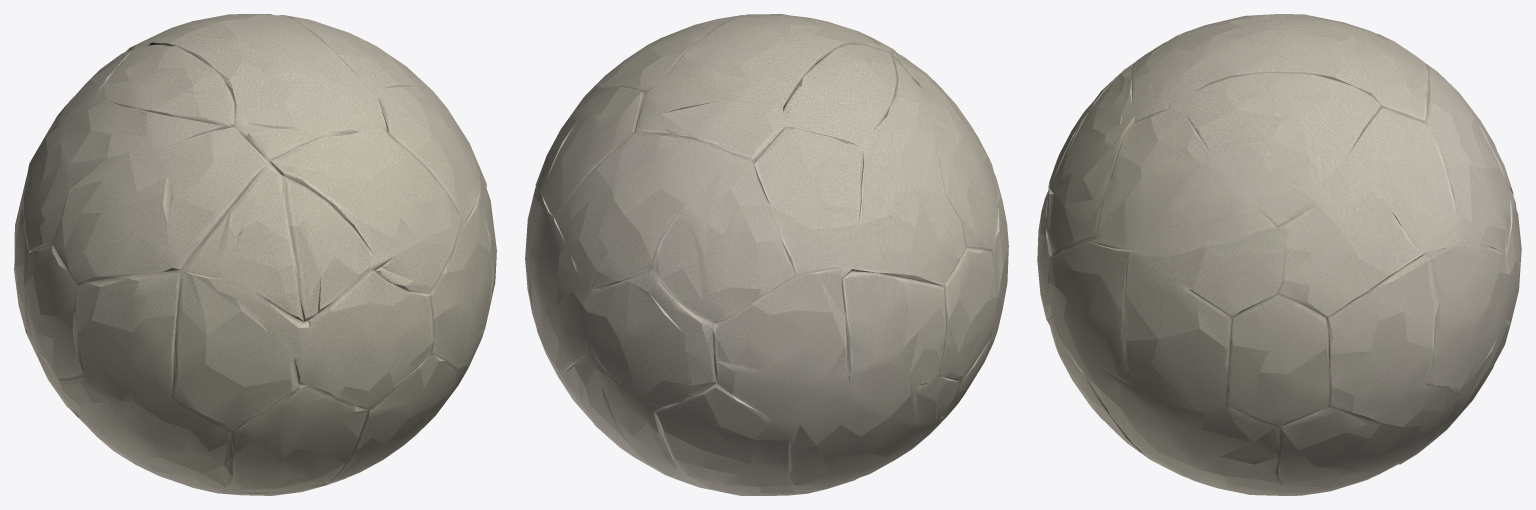
File: ball.glb
3 views of the same model, side by side, from view 1: azimuth 30°, elevation 25°; view 2: azimuth 150°, elevation 25°; view 3: azimuth 270°, elevation 25° (orthographic).
Parts seen in each view (by area): view 1: Mesh_0; view 2: Mesh_0; view 3: Mesh_0.
Boxes of the visible parts, x1,y1,x2,y2 form: Mesh_0: (14, 14, 496, 495); Mesh_0: (525, 14, 1008, 495); Mesh_0: (1037, 14, 1521, 495).
Bounding box in the file's own units: 1.9 × 1.89 × 1.9.
Materials: 1 (1 with a texture image).
